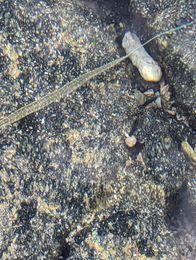Fistularia commersonii: (0, 43, 157, 147)
